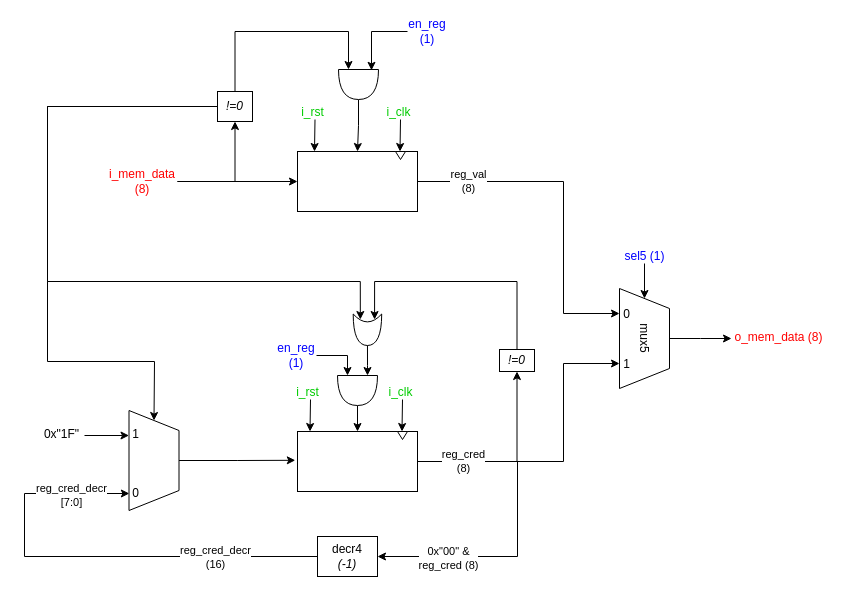
The diagram is 851 pixels wide and 594 high, and some of its shapes have lost their labels. The shapes that lost their labels are listed below. From the top down, each one's centre as x and y in pixels, then its label:
At pixel 357 181: "reg_val".
At pixel 357 461: "reg_cred".
